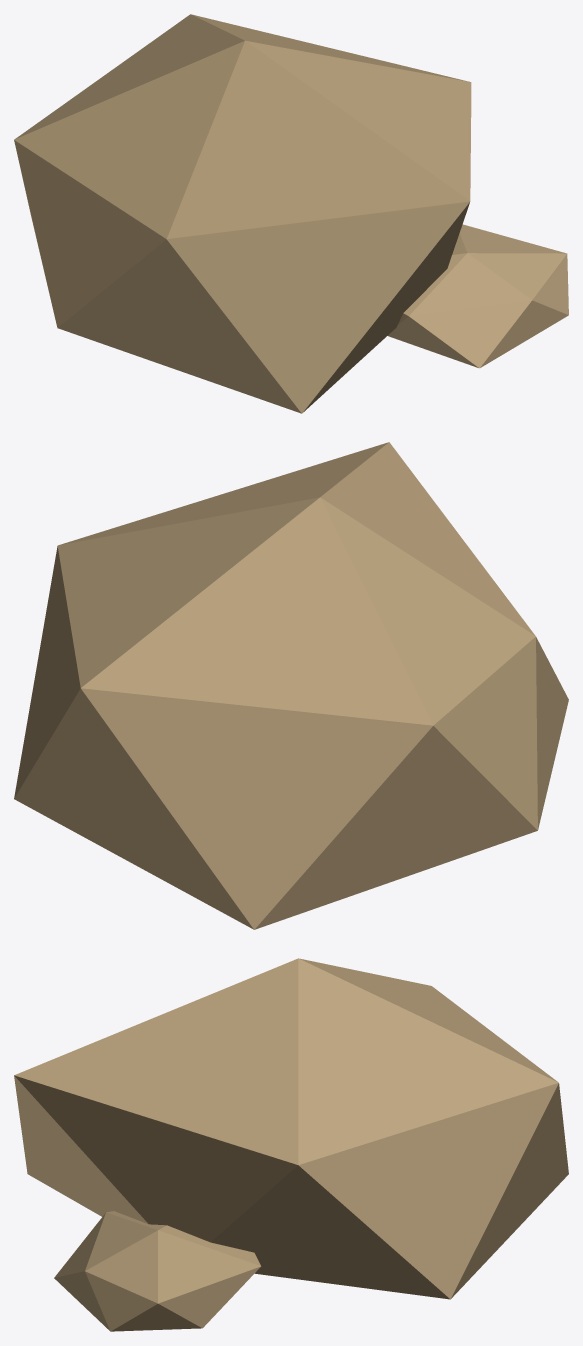
Rendered from rocher_desert.glb.
3 views of the same model, one above another, from view 1: azimuth 30°, elevation 25°; view 2: azimuth 150°, elevation 25°; view 3: azimuth 270°, elevation 25° (orthographic). The views are drawn at different scales.
Visible parts, largest first — view 1: rocher_desert; view 2: rocher_desert; view 3: rocher_desert.
Part boxes in pixels (box(x1,y1,x2,y2)): rocher_desert: box(14, 14, 568, 413); rocher_desert: box(14, 442, 568, 929); rocher_desert: box(14, 958, 568, 1331).
Bounding box in the file's own units: 2.89 × 1.76 × 3.17.
Materials: 1 (1 with a texture image).
